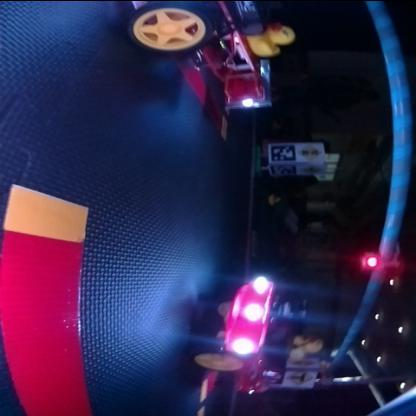Duckie: (250, 24, 296, 54), (291, 335, 324, 358), (268, 192, 282, 204)
Duckiebot: (125, 1, 274, 106), (194, 280, 282, 390)
Intersection sign: (288, 370, 313, 384), (301, 164, 323, 172)
QR code: (271, 142, 296, 158), (272, 161, 297, 174)
Signal sign: (300, 142, 322, 158)
Traffic light: (364, 248, 400, 269)
